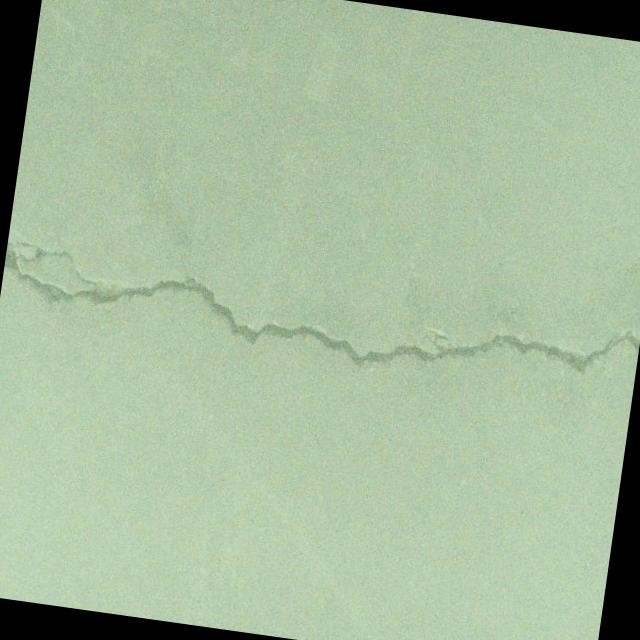crack: (0, 235, 640, 406)
